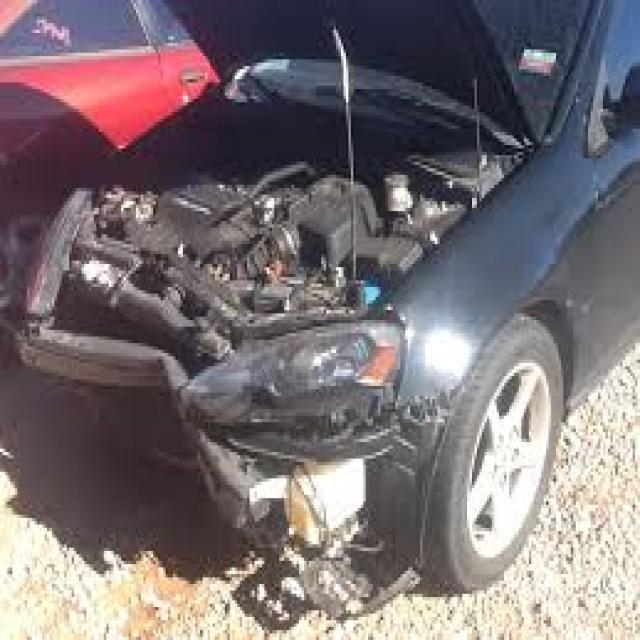moderate: (0, 142, 582, 604)
